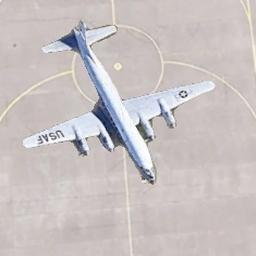Airplane: (20, 17, 216, 185)
